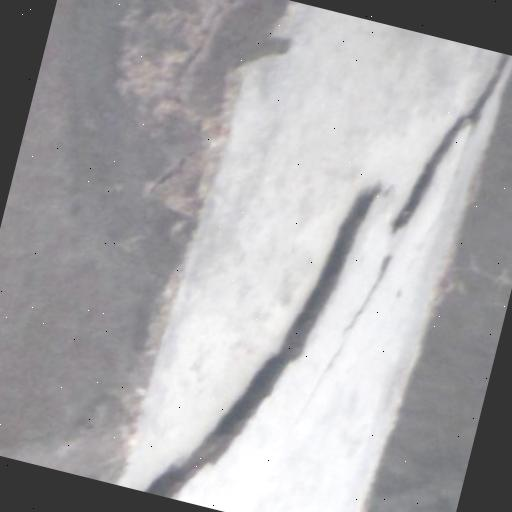spalling: (140, 53, 512, 498)
